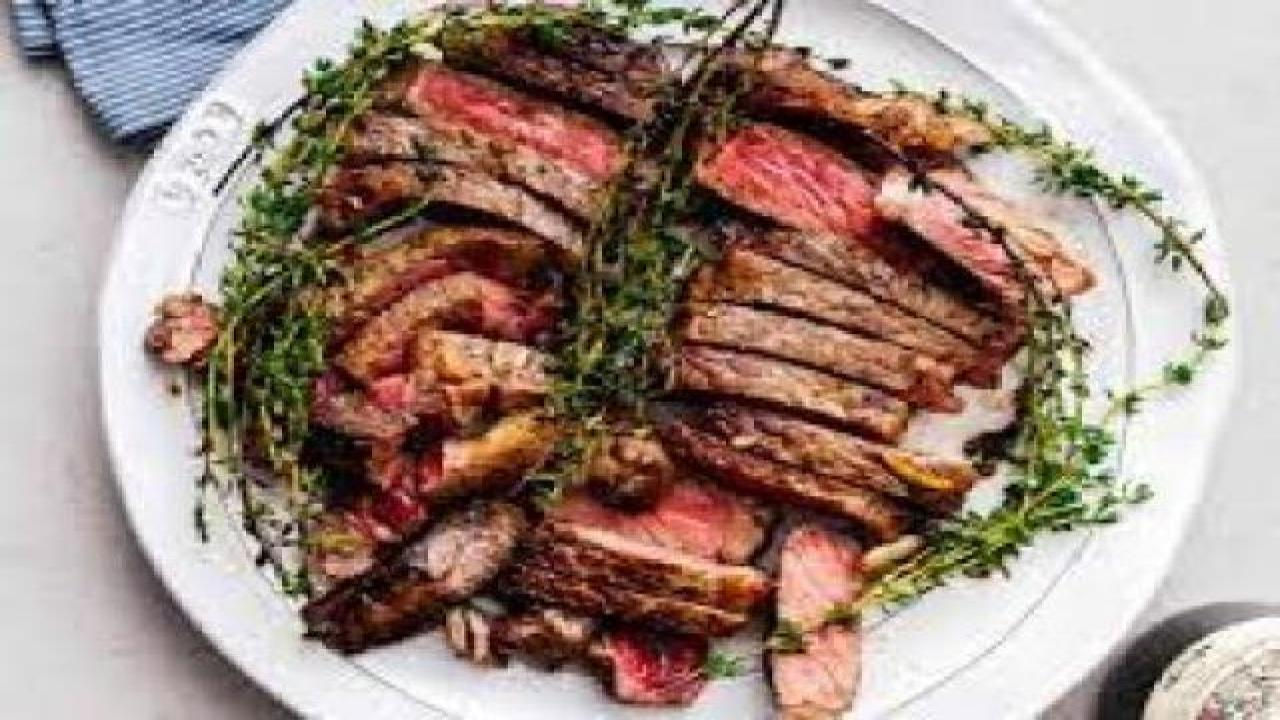Carne: (288, 9, 912, 707)
